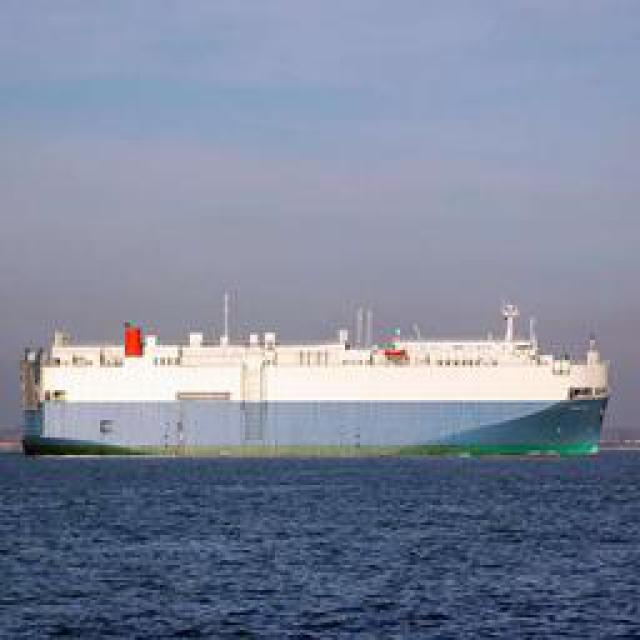Ship: (23, 327, 608, 460)
